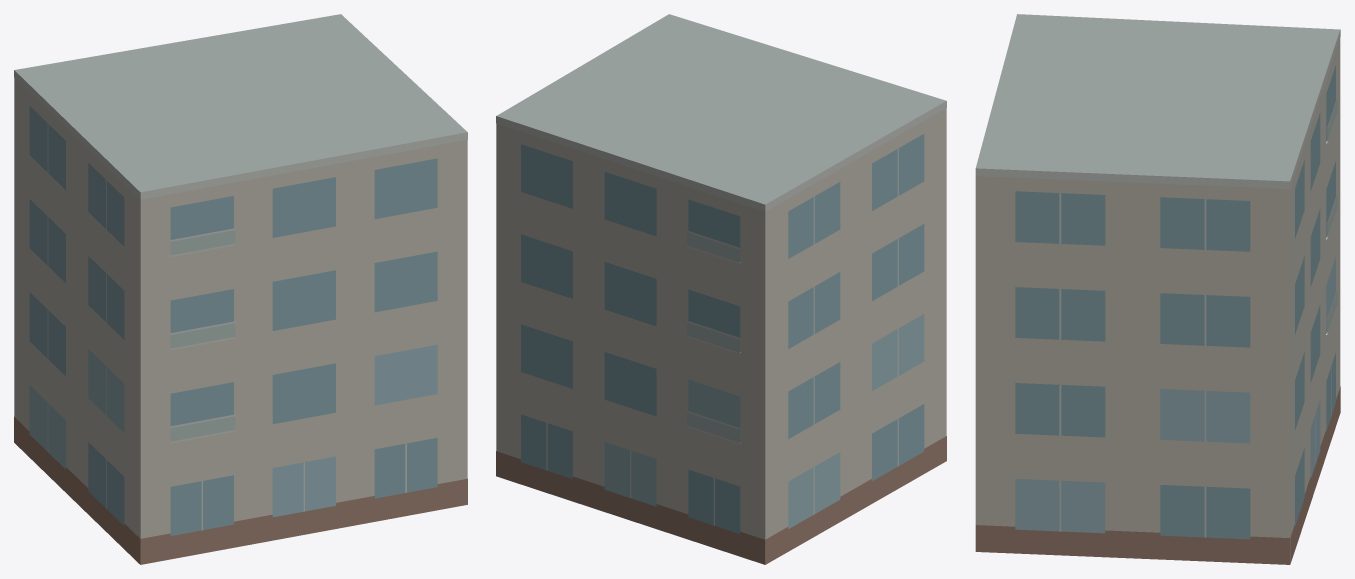
Rendered from survey-upis-32807038.glb.
3 views of the same model, side by side, from view 1: azimuth 30°, elevation 25°; view 2: azimuth 150°, elevation 25°; view 3: azimuth 270°, elevation 25° (orthographic). The views are drawn at different scales.
Visible parts, largest first — view 1: survey-upis-32807038.tmp; view 2: survey-upis-32807038.tmp; view 3: survey-upis-32807038.tmp.
Part boxes in pixels (left/top/right/bottom): survey-upis-32807038.tmp: left=14, top=14, right=467, bottom=564; survey-upis-32807038.tmp: left=496, top=14, right=946, bottom=564; survey-upis-32807038.tmp: left=975, top=14, right=1340, bottom=564.
Size of the model in its own units: 11.43 by 12.2 by 10.53.
